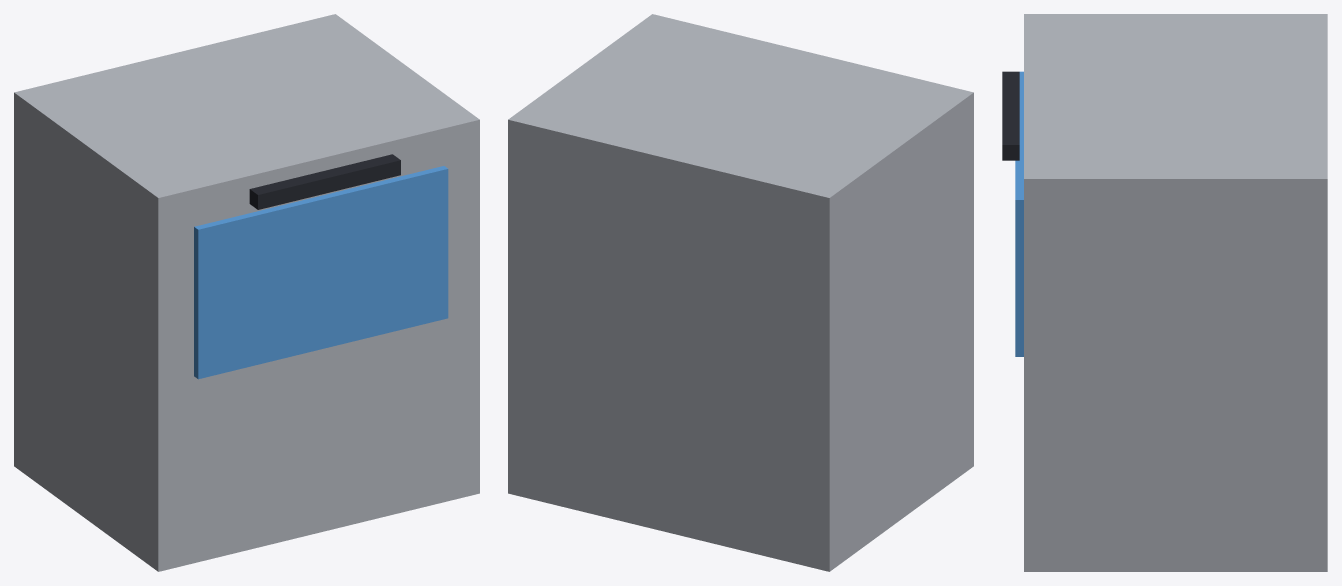
Rendered from ice_machine.glb.
The picture shows the model from 3 angles, left to right: view 1: azimuth 30°, elevation 25°; view 2: azimuth 150°, elevation 25°; view 3: azimuth 270°, elevation 25°; orthographic projection. The views are drawn at different scales.
Visible parts, largest first — view 1: box_ice_steel, door_ice_door, handle_ice_handle; view 2: box_ice_steel; view 3: box_ice_steel, door_ice_door, handle_ice_handle.
Boxes of the visible parts, x1,y1,x2,y2 form: box_ice_steel: (14,14,479,571); door_ice_door: (194,166,448,379); handle_ice_handle: (249,154,400,209); box_ice_steel: (508,14,973,571); box_ice_steel: (1024,14,1327,571); door_ice_door: (1015,71,1023,356); handle_ice_handle: (1002,71,1019,160).
Bounding box in the file's own units: 0.9 × 1 × 0.75.
